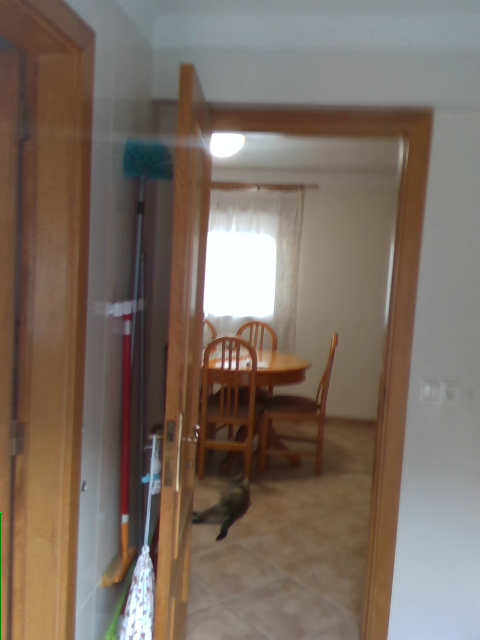open: (154, 63, 435, 639)
